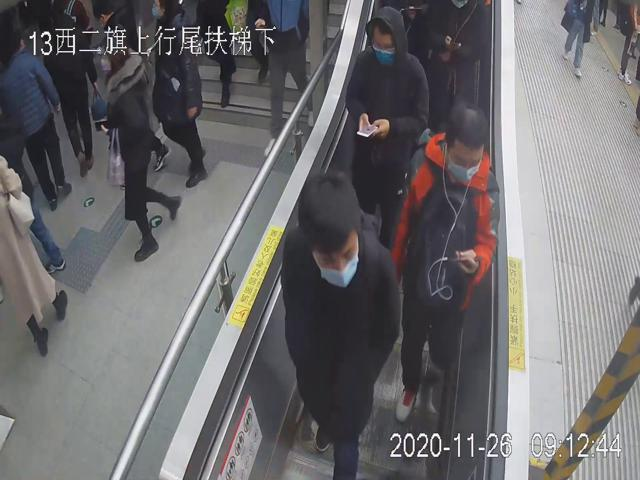person: (282, 171, 401, 480), (392, 103, 501, 425), (344, 3, 429, 247), (94, 31, 182, 264)
